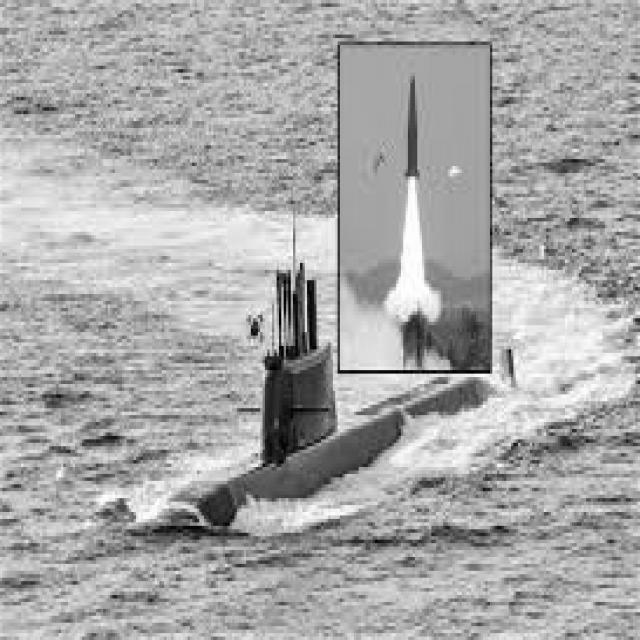missile: (404, 74, 422, 194)
